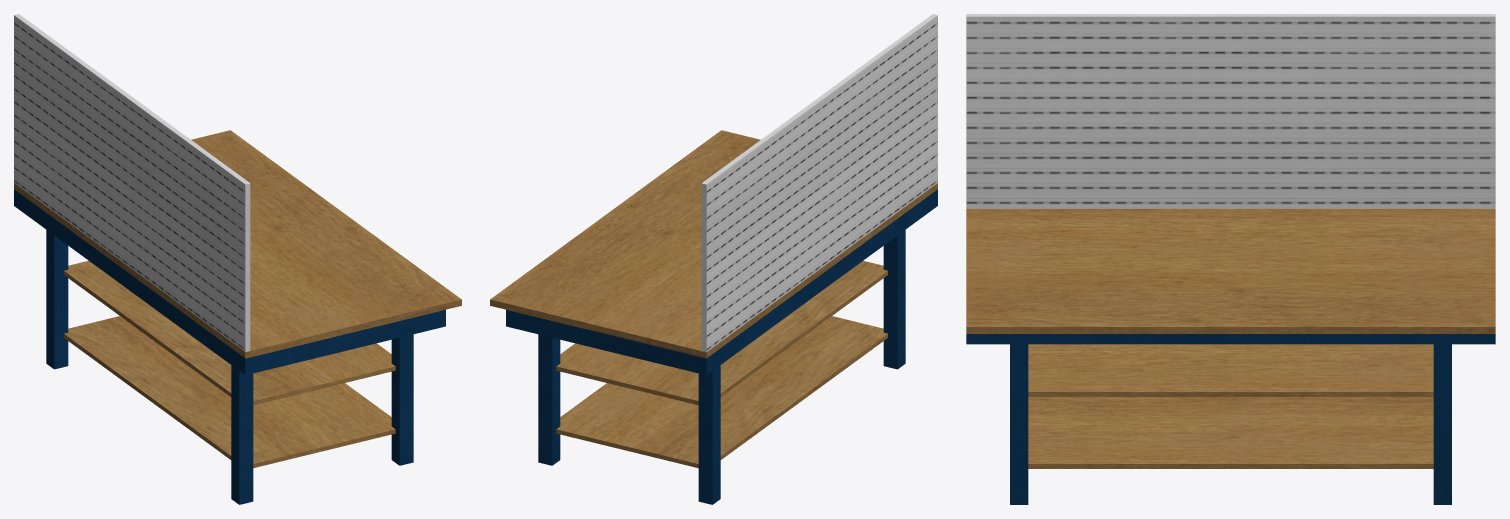
Rendered from workbench.obj.
3 renders of one model, left to right at view 1: azimuth 30°, elevation 25°; view 2: azimuth 150°, elevation 25°; view 3: azimuth 270°, elevation 25°, orthographic. The views are drawn at different scales.
Visible parts, largest first — view 1: workbench; view 2: workbench; view 3: workbench.
Part boxes in pixels (x1=…): workbench: x1=14, y1=14, x2=461, y2=504; workbench: x1=490, y1=14, x2=937, y2=504; workbench: x1=966, y1=14, x2=1495, y2=504.
Size of the model in its own units: 1.08 by 1.61 by 2.
1 material, 1 textured.
